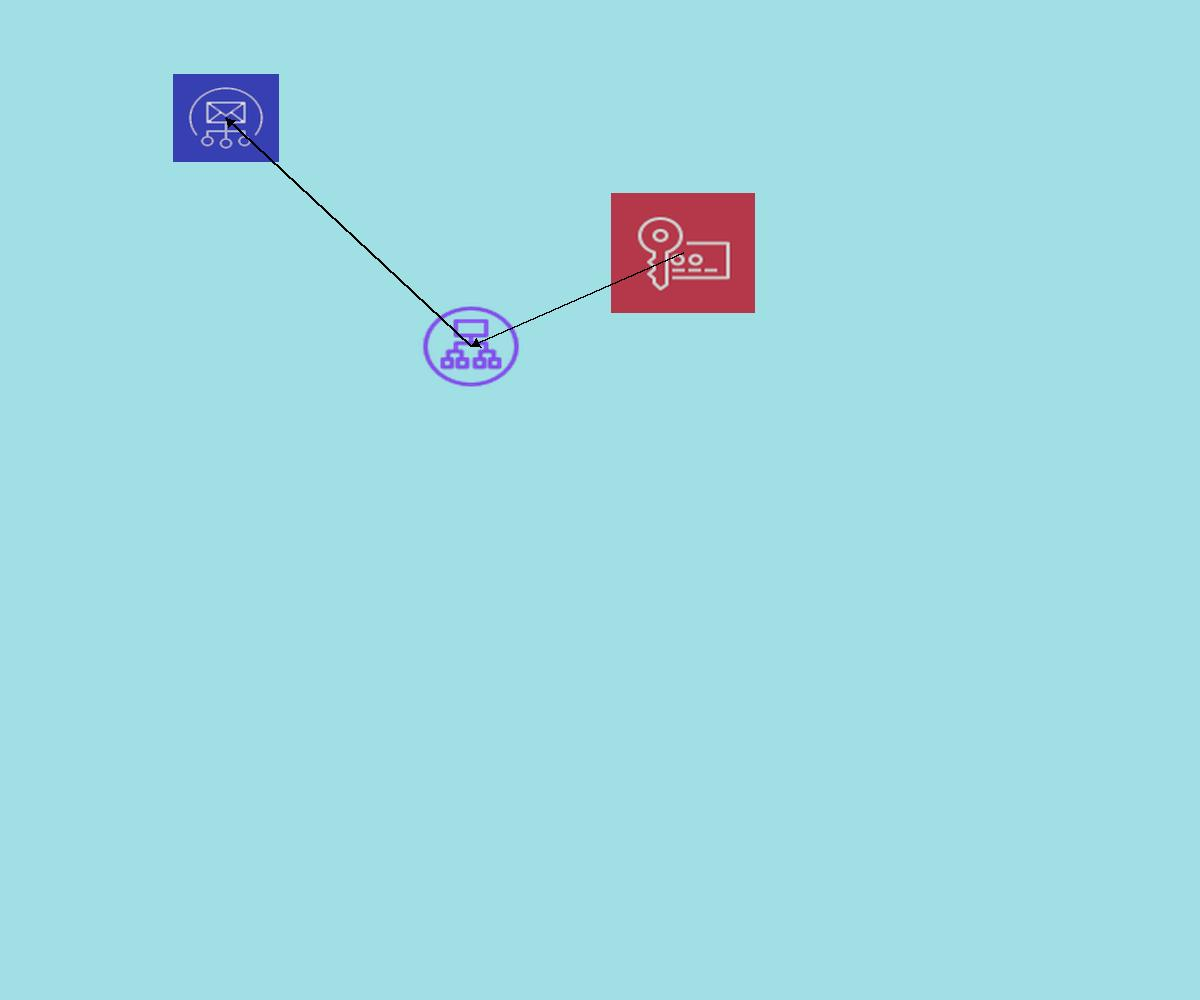AWS-Key-Management-Service: (611, 193, 755, 313)
AWS-Res_Elastic-Load-Balancing_Application-Load-Balancer: (419, 303, 523, 390)
AWS-Simple-Email-Service: (173, 74, 279, 162)
